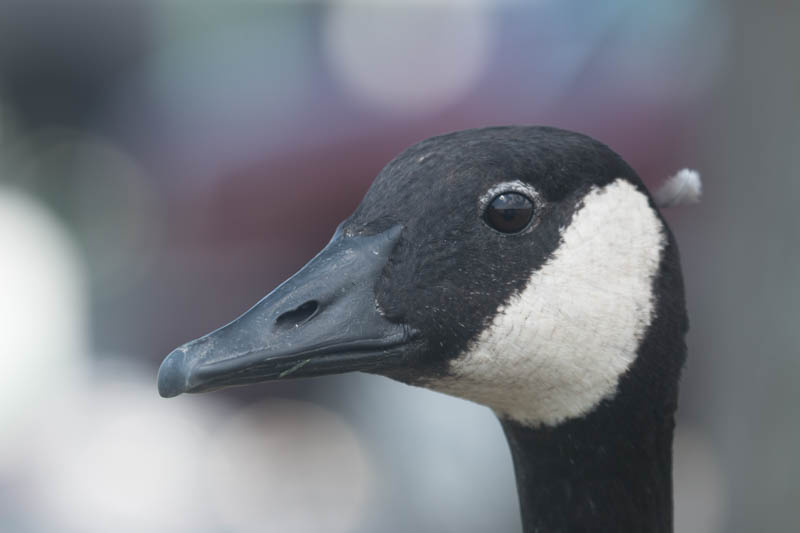goose-head: (156, 126, 688, 432)
